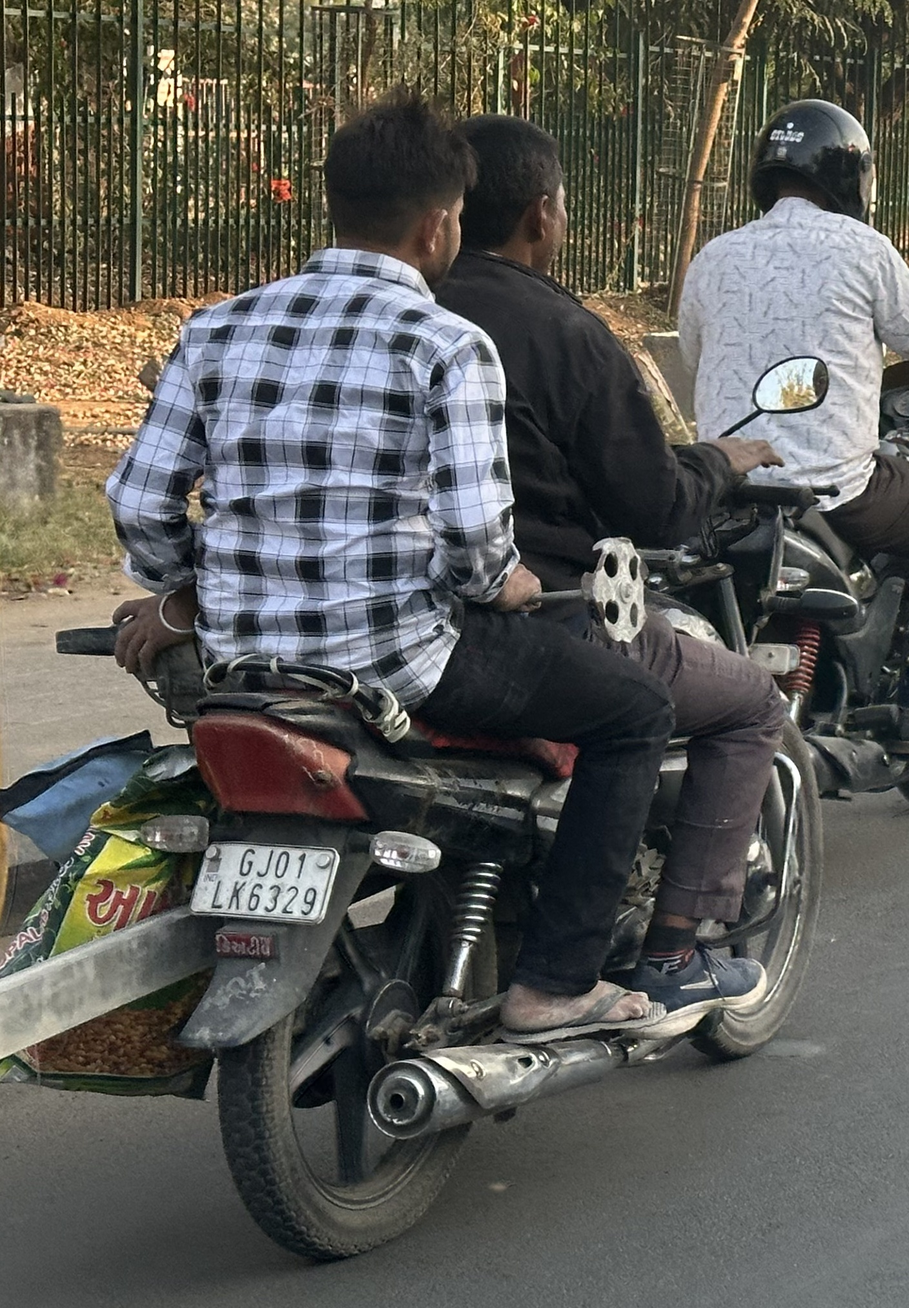BikeWithRider: (17, 81, 857, 1276), (631, 87, 908, 832)
Helmet: (733, 87, 889, 234)
NoHelmet: (303, 87, 487, 294), (430, 102, 585, 288)
